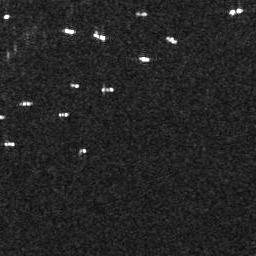ship: (228, 7, 244, 16), (100, 85, 114, 94), (94, 31, 106, 41), (139, 54, 150, 62), (167, 36, 178, 44), (64, 27, 76, 34), (4, 140, 15, 147), (78, 146, 87, 154), (58, 111, 70, 117), (136, 11, 147, 17), (22, 100, 32, 106), (71, 82, 79, 89)
